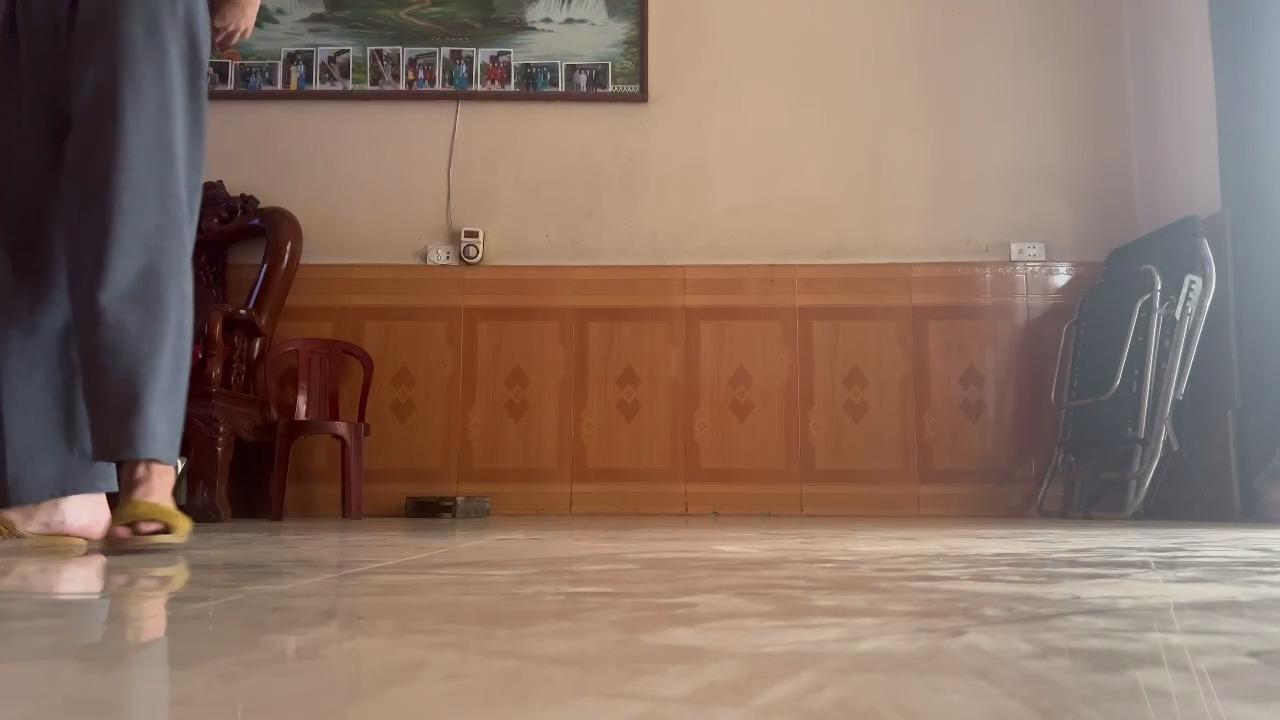no-boot: (0, 487, 112, 565), (111, 479, 203, 558)
